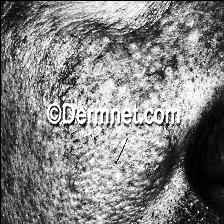Unclassified: (77, 28, 108, 78), (145, 40, 173, 74)
